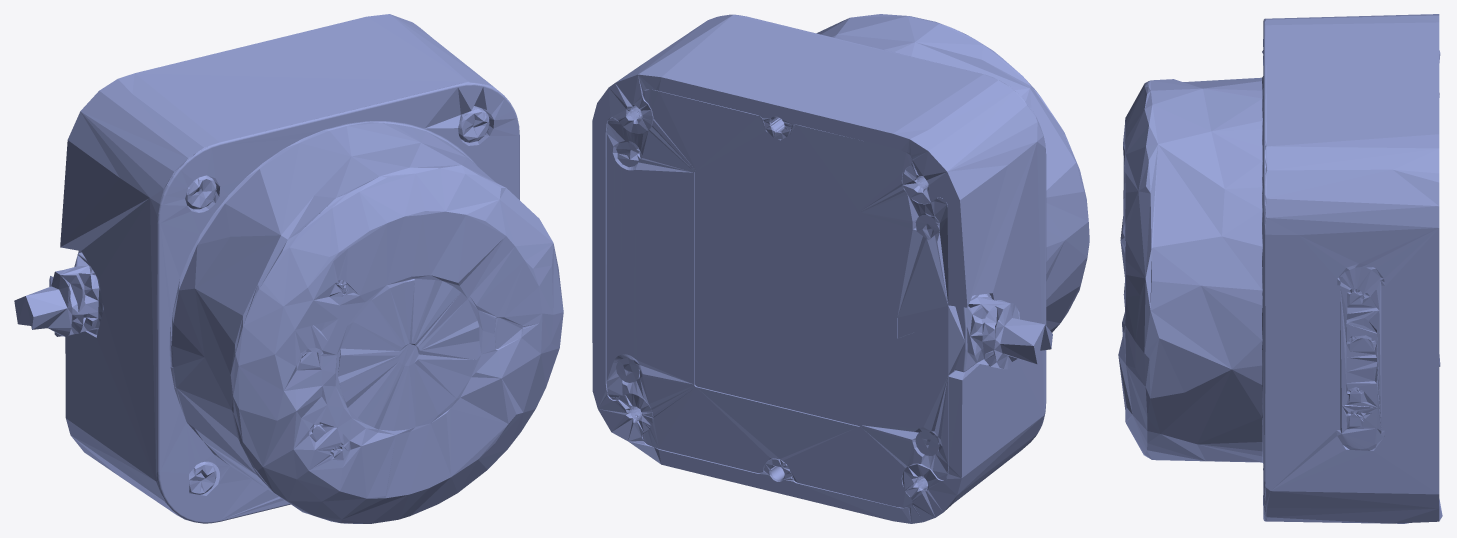
Rendered from rplidar_c1.obj.
3 views of the same model, side by side, from view 1: azimuth 30°, elevation 25°; view 2: azimuth 150°, elevation 25°; view 3: azimuth 270°, elevation 25° (orthographic).
Visible parts, largest first — view 1: p0000; view 2: p0000; view 3: p0000.
Part boxes in pixels (x1,y1,x2,y2): p0000: [14, 14, 563, 523]; p0000: [592, 14, 1089, 523]; p0000: [1118, 14, 1442, 523].
Size of the model in its own units: 0.0648 by 0.0556 by 0.0426.
